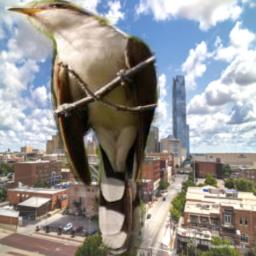Cuckoo: (5, 0, 160, 256)
